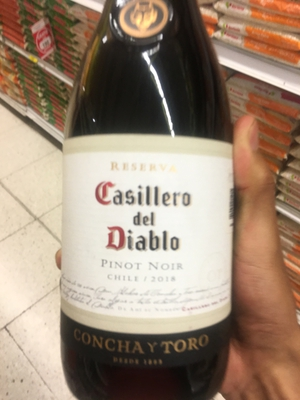casillero del diablo pinot noir: (40, 22, 250, 394)
